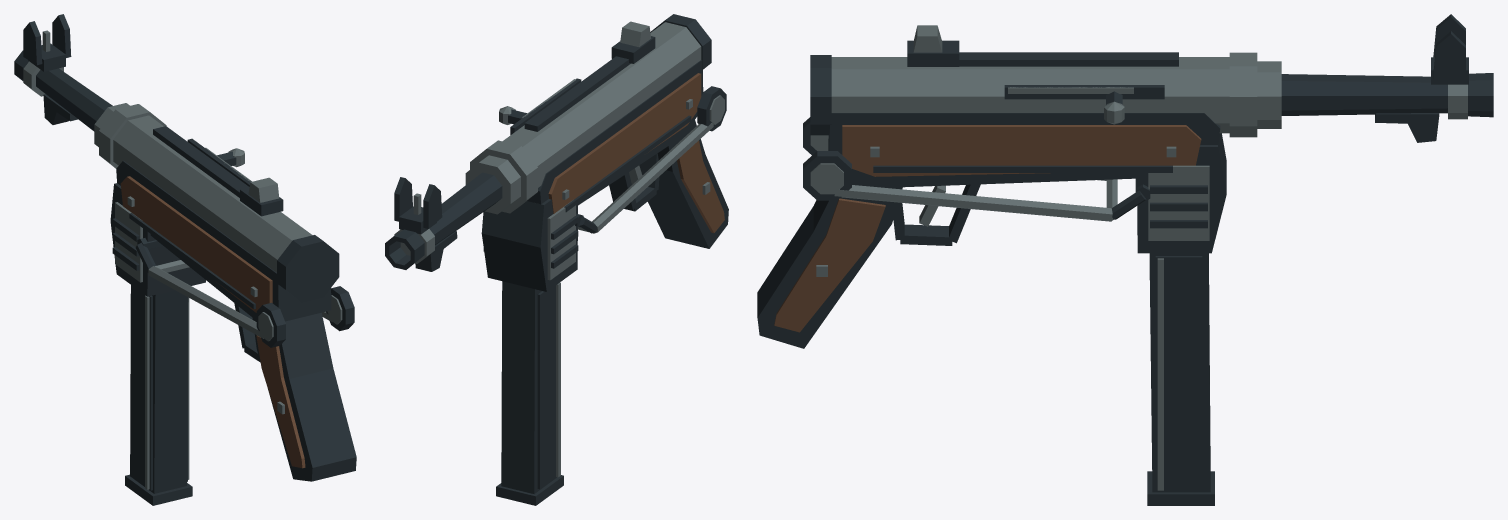
3 renders of one model, left to right at view 1: azimuth 30°, elevation 25°; view 2: azimuth 150°, elevation 25°; view 3: azimuth 270°, elevation 25°, orthographic. The views are drawn at different scales.
Visible parts, largest first — view 1: Receiver_tube_0, Grip_frame_17, Straight_magazine_35, Bakelite_side_panel_4, Lower_frame_3, Magazine_side_36, Receiver_rear_cap_1, Grip_panel_18, Barrel_42, Magazine_well_26, Receiver_top_rib_16, Folded_stock_arm_55 (+15 smaller); view 2: Receiver_tube_0, Straight_magazine_35, Bakelite_side_panel_4, Magazine_well_26, Grip_frame_17, Magazine_side_36, Lower_frame_3, Barrel_42, Grip_panel_18, Folded_stock_arm_55, Receiver_top_rib_16, Receiver_front_collar_2 (+17 smaller); view 3: Receiver_tube_0, Bakelite_side_panel_8, Magazine_side_38, Lower_frame_3, Barrel_42, Grip_frame_17, Grip_panel_20, Folded_stock_arm_59, Straight_magazine_35, Magazine_well_26, Receiver_top_rib_16, Magazine_well_panel_31 (+15 smaller).
Boxes of the visible parts, left/top/right/bottom form: Receiver_tube_0: left=113, top=115, right=312, bottom=272; Grip_frame_17: left=252, top=312, right=356, bottom=481; Straight_magazine_35: left=130, top=285, right=188, bottom=493; Bakelite_side_panel_4: left=120, top=176, right=272, bottom=312; Lower_frame_3: left=116, top=160, right=331, bottom=321; Magazine_side_36: left=131, top=285, right=152, bottom=490; Receiver_rear_cap_1: left=277, top=235, right=339, bottom=302; Grip_panel_18: left=256, top=335, right=305, bottom=468; Barrel_42: left=36, top=68, right=112, bottom=131; Magazine_well_26: left=110, top=183, right=205, bottom=296; Receiver_top_rib_16: left=153, top=126, right=249, bottom=197; Folded_stock_arm_55: left=148, top=266, right=263, bottom=338; Receiver_tube_0: left=503, top=22, right=701, bottom=187; Straight_magazine_35: left=501, top=281, right=556, bottom=493; Bakelite_side_panel_4: left=548, top=73, right=701, bottom=213; Magazine_well_26: left=481, top=199, right=577, bottom=291; Grip_frame_17: left=647, top=120, right=728, bottom=248; Magazine_side_36: left=537, top=285, right=556, bottom=489; Lower_frame_3: left=527, top=60, right=703, bottom=205; Barrel_42: left=429, top=172, right=502, bottom=244; Grip_panel_18: left=677, top=140, right=724, bottom=233; Folded_stock_arm_55: left=592, top=123, right=713, bottom=233; Receiver_top_rib_16: left=524, top=56, right=630, bottom=131; Receiver_front_collar_2: left=470, top=140, right=537, bottom=213; Receiver_tube_0: left=831, top=57, right=1229, bottom=133; Bakelite_side_panel_8: left=842, top=125, right=1201, bottom=176; Magazine_side_38: left=1155, top=256, right=1202, bottom=490; Lower_frame_3: left=828, top=113, right=1220, bottom=187; Barrel_42: left=1281, top=74, right=1447, bottom=115; Grip_frame_17: left=757, top=180, right=902, bottom=348; Grip_panel_20: left=774, top=198, right=885, bottom=332; Folded_stock_arm_59: left=834, top=185, right=1112, bottom=221; Straight_magazine_35: left=1149, top=253, right=1210, bottom=492; Magazine_well_26: left=1137, top=133, right=1226, bottom=253; Receiver_top_rib_16: left=959, top=52, right=1178, bottom=66; Magazine_well_panel_31: left=1148, top=165, right=1209, bottom=240.
Bounding box in the file's own units: 0.1288 × 0.49 × 0.695.
